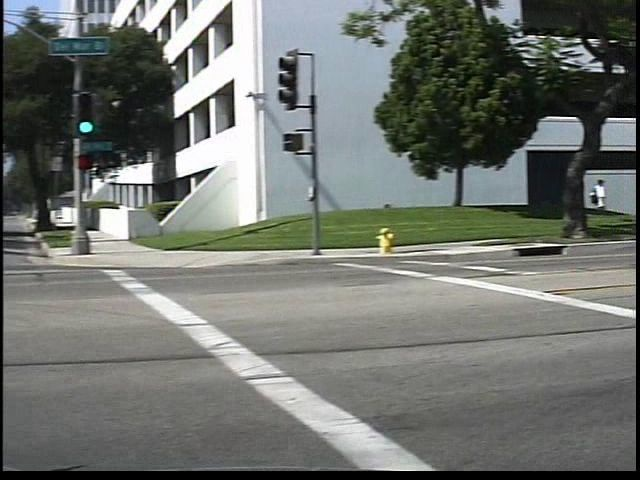person: (600, 171, 621, 233)
